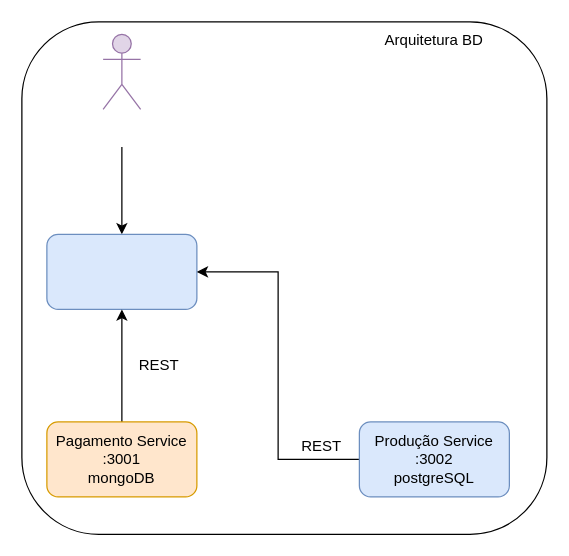
The diagram is 569 pixels wide and 556 high, and some of its shapes have lost their labels. The shapes that lost their labels are listed below. From the top down, each one's centre as x and y in pixels, then its label:
At (x=121, y=71): "Cliente / Postman".
At (x=121, y=271): "Pedido Service :3000 postgreSQL".
